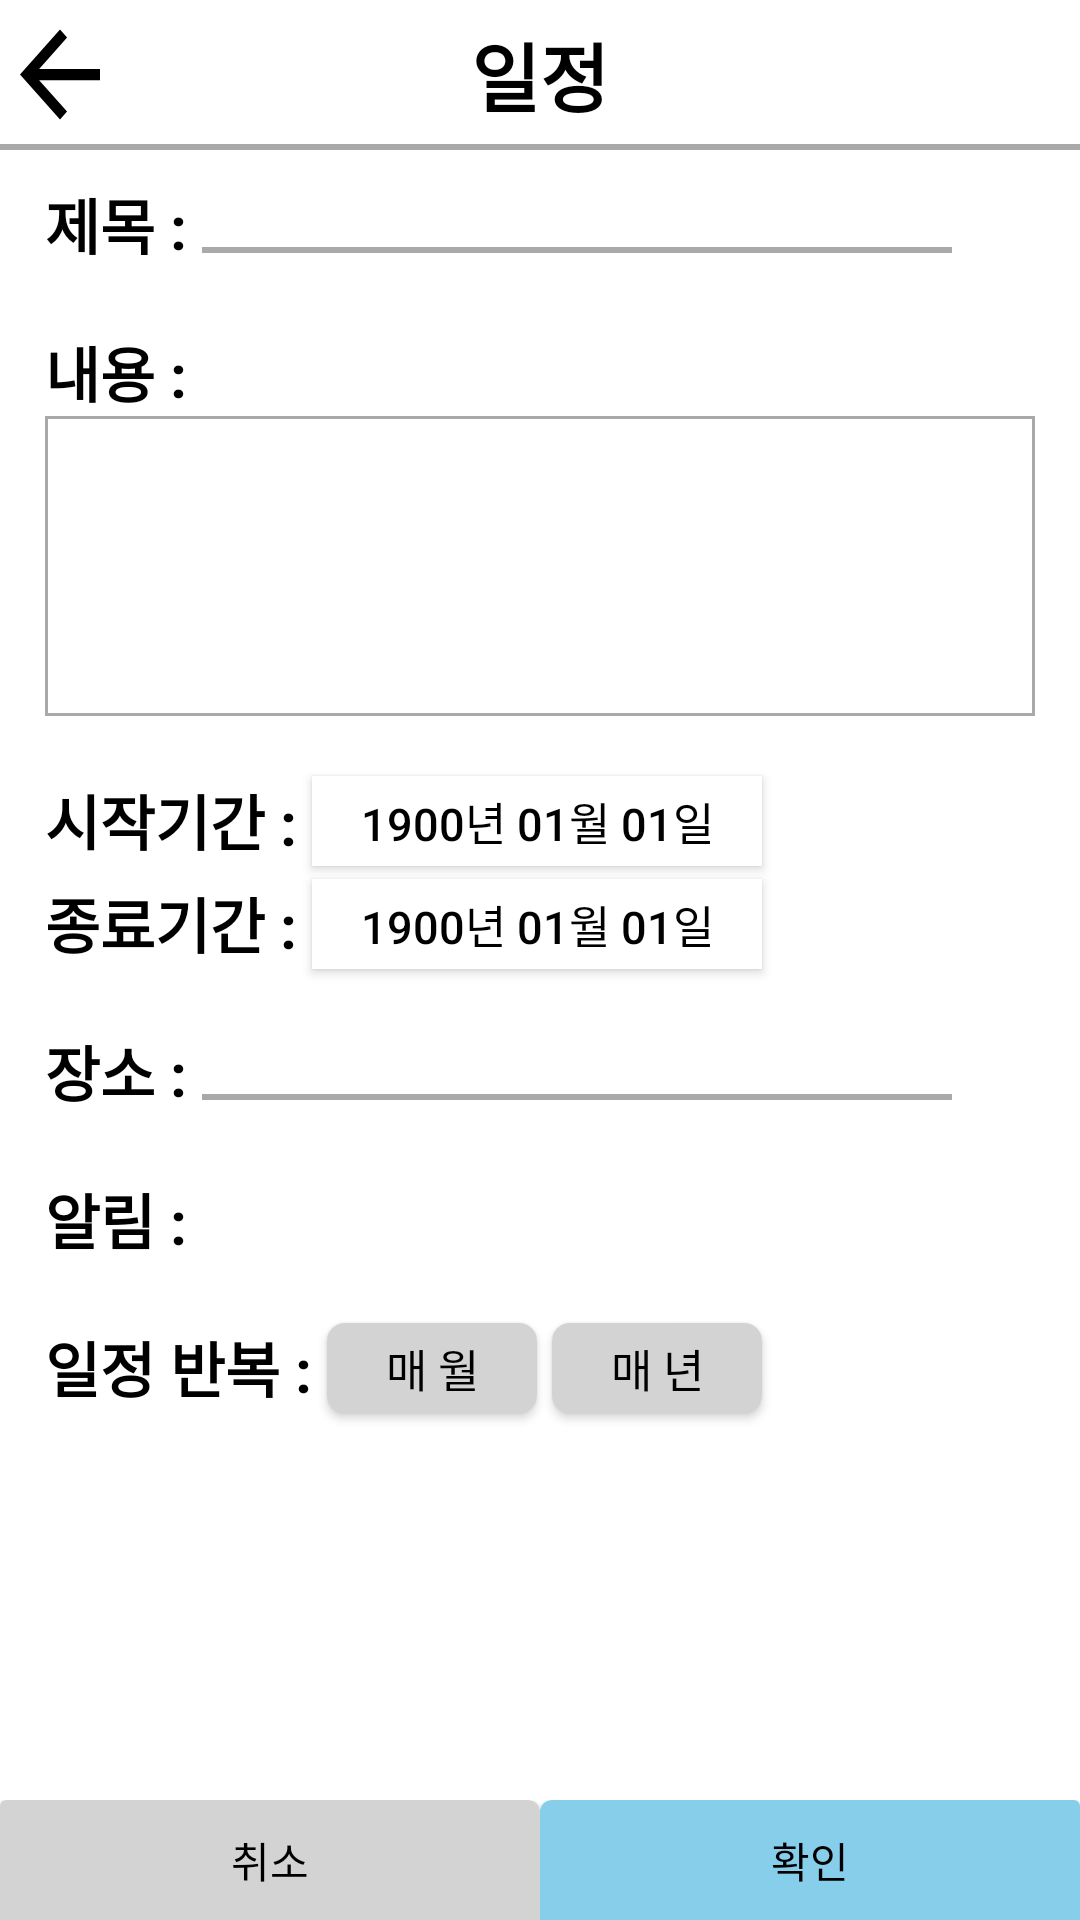

Screen size 1080*1920. Icon name, then its box in pixels as BBox(x1, y1, x2, y2):
arrow back: BBox(20, 29, 100, 120)
